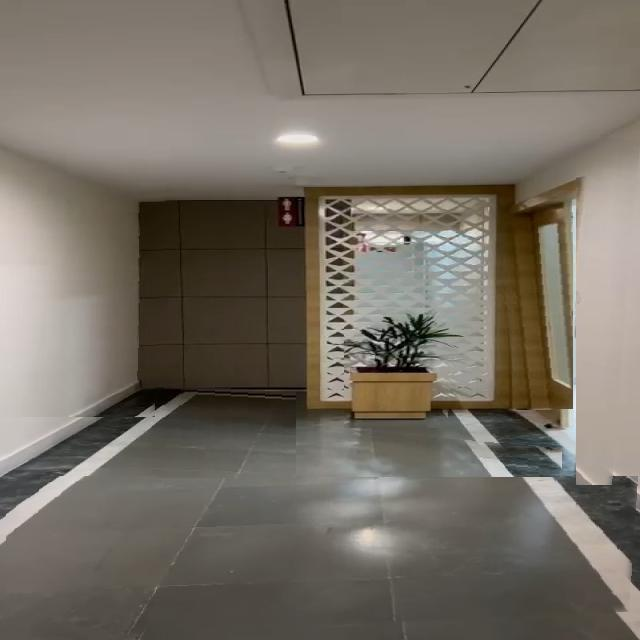door: (497, 207, 573, 410)
floor: (6, 476, 640, 640), (155, 384, 296, 478), (308, 426, 562, 477)
furniture: (344, 304, 458, 428)
wall: (0, 133, 168, 417), (576, 134, 640, 485)
